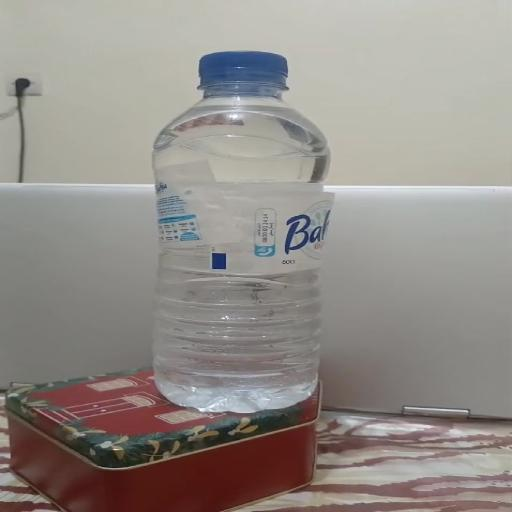bouteille conformite: (157, 40, 338, 416)
